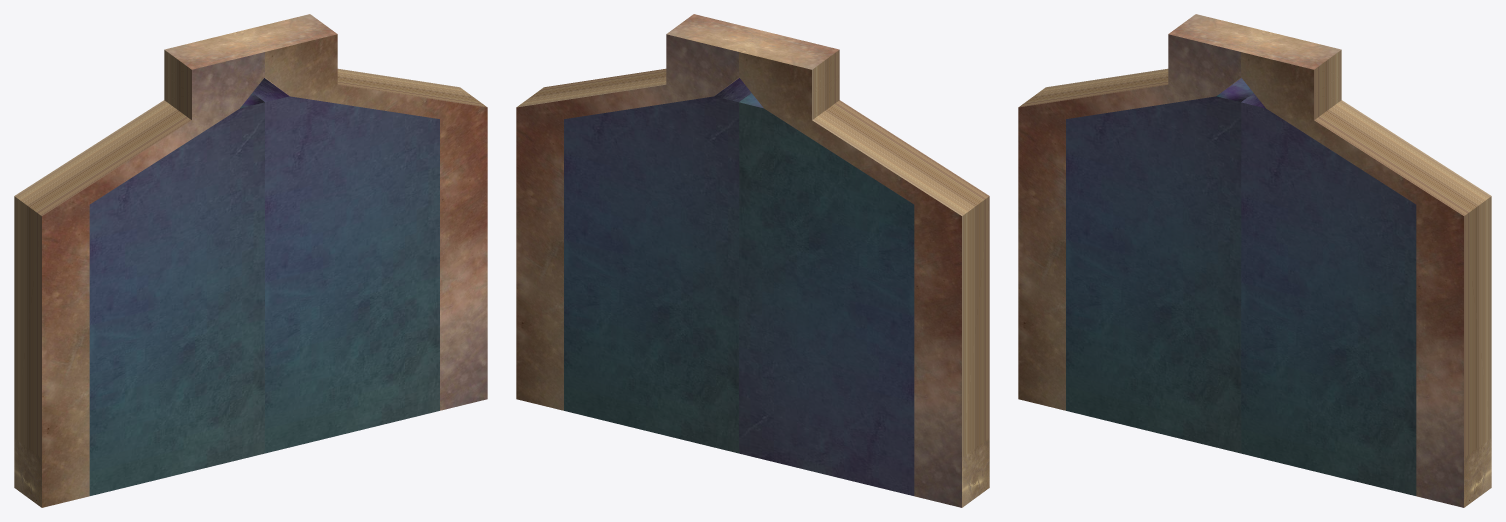
File: GATE.fbx
The picture shows the model from 3 angles, left to right: view 1: azimuth 30°, elevation 25°; view 2: azimuth 150°, elevation 25°; view 3: azimuth 330°, elevation 25°; orthographic projection.
Parts seen in each view (by area): view 1: Cube, Cube.002, Cube.001; view 2: Cube, Cube.002, Cube.001; view 3: Cube, Cube.001, Cube.002.
Part boxes in pixels (x1=…): Cube: x1=14, y1=14, x2=487, y2=507; Cube.002: x1=252, y1=78, x2=439, y2=453; Cube.001: x1=89, y1=93, x2=264, y2=495; Cube: x1=516, y1=14, x2=989, y2=507; Cube.002: x1=564, y1=78, x2=751, y2=453; Cube.001: x1=739, y1=93, x2=914, y2=495; Cube: x1=1018, y1=14, x2=1491, y2=507; Cube.001: x1=1066, y1=78, x2=1253, y2=453; Cube.002: x1=1241, y1=93, x2=1416, y2=495.
Size of the model in its own units: 1863 by 1603 by 200.
